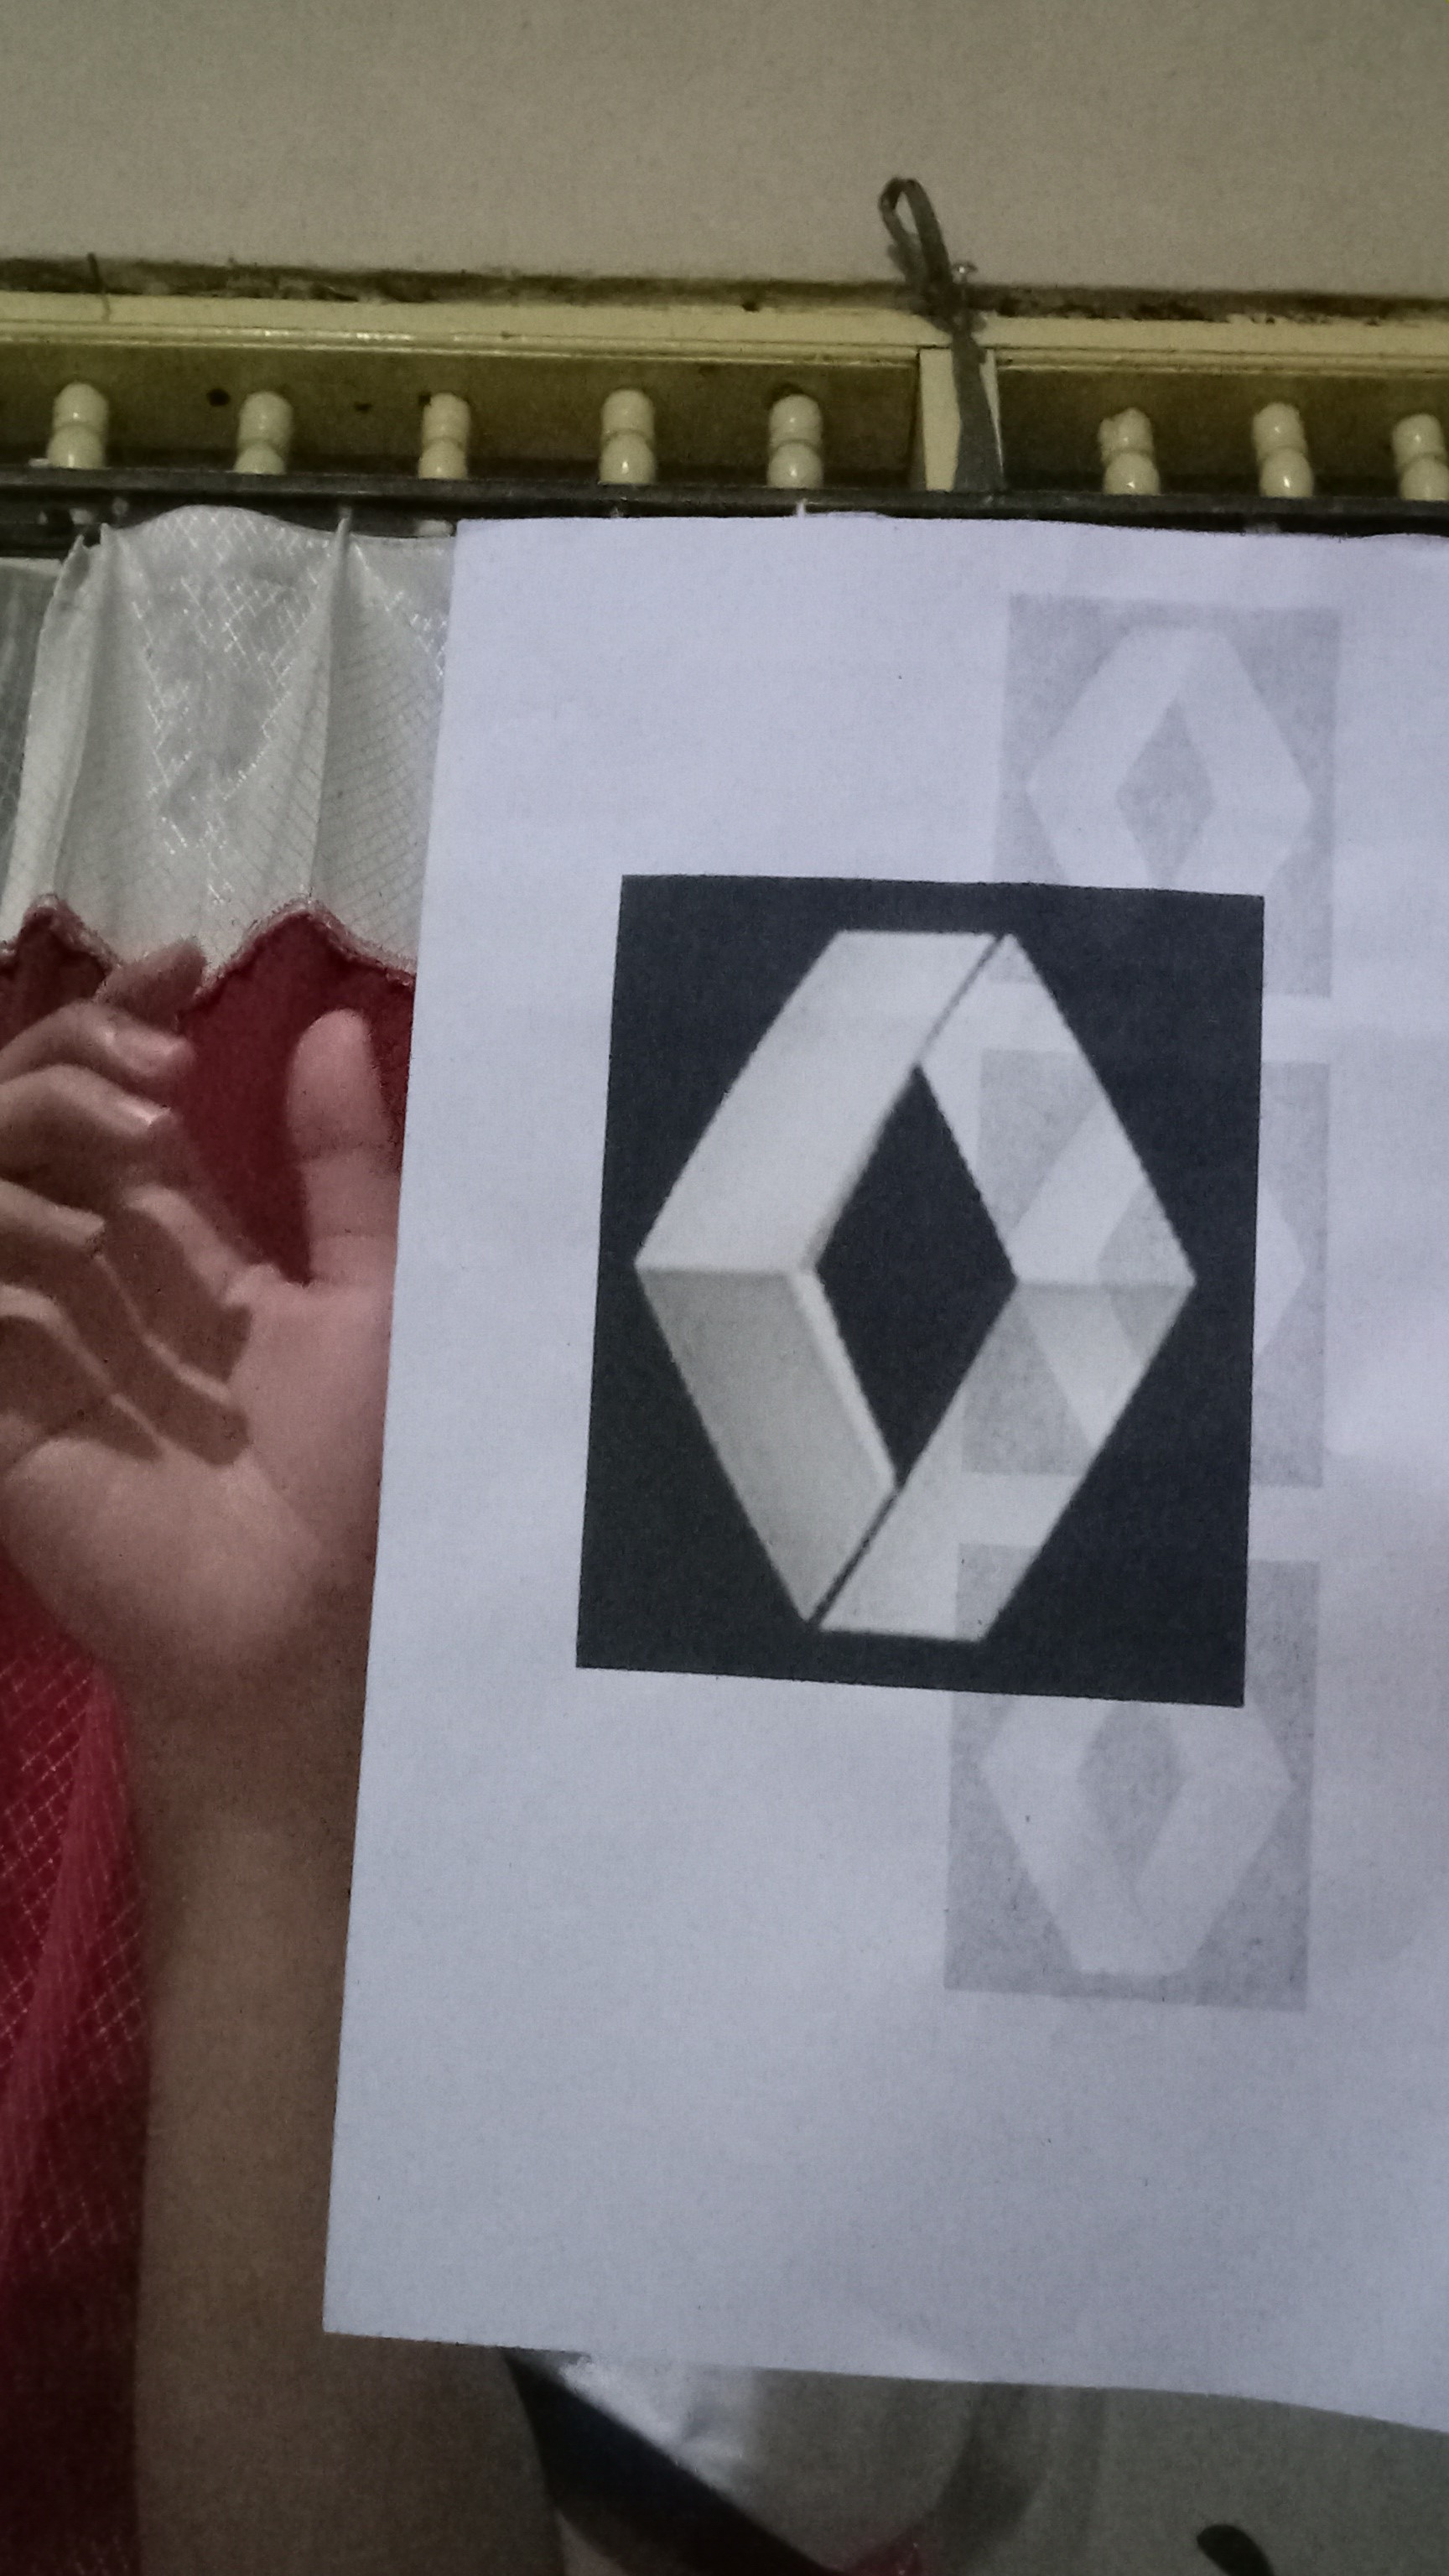Renault: (628, 899, 1215, 1674)
